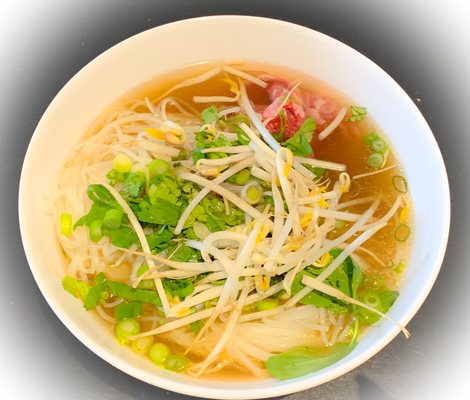sushi: (17, 15, 459, 393)
